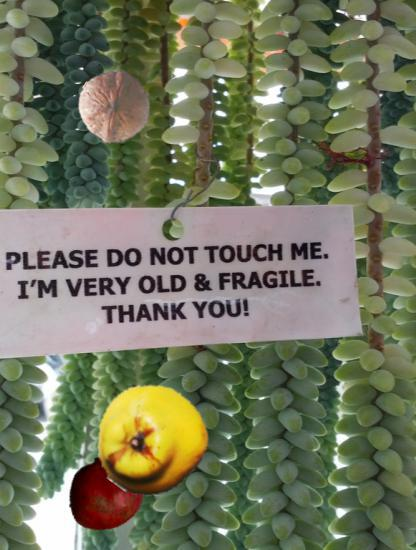Pomegranate: (67, 454, 144, 531)
Quince: (94, 383, 208, 497)
Walnut: (77, 69, 152, 144)
